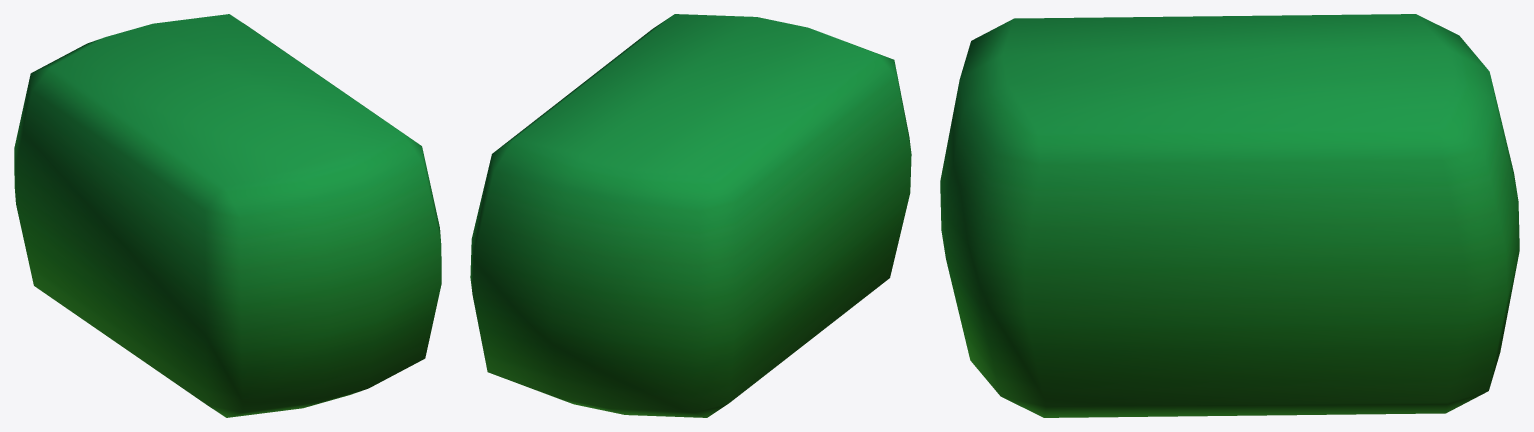
File: Bush_1_3.glb
3 views of the same model, side by side, from view 1: azimuth 30°, elevation 25°; view 2: azimuth 150°, elevation 25°; view 3: azimuth 270°, elevation 25° (orthographic). The views are drawn at different scales.
Parts seen in each view (by area): view 1: Bush_1_3; view 2: Bush_1_3; view 3: Bush_1_3.
Boxes of the visible parts, bbox=[...] form: Bush_1_3: bbox=[14, 14, 441, 417]; Bush_1_3: bbox=[470, 14, 911, 417]; Bush_1_3: bbox=[940, 14, 1519, 417].
Bounding box in the file's own units: 0.799 × 0.728 × 1.29.
Materials: 1 (1 with a texture image).
